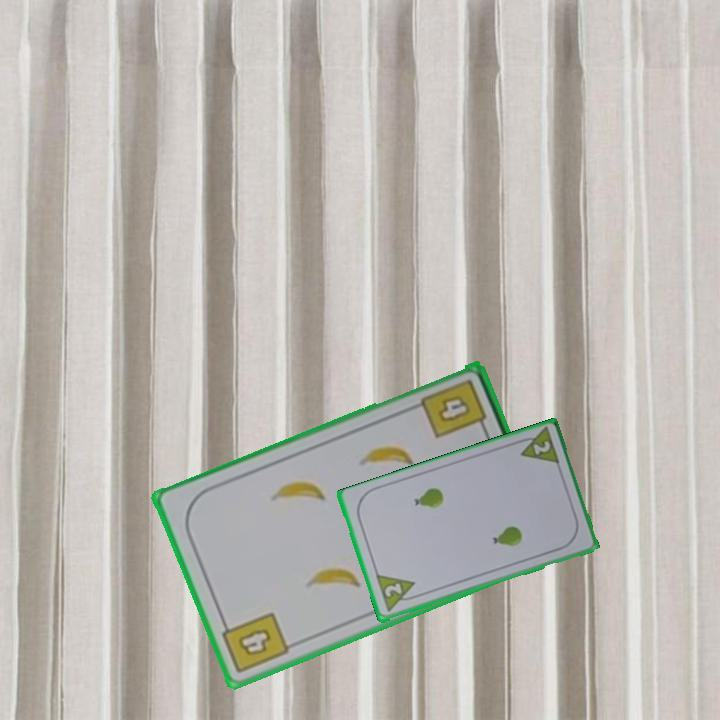2p: (512, 425, 562, 469), (381, 580, 405, 601)
4b: (217, 609, 292, 677), (417, 375, 490, 442)
